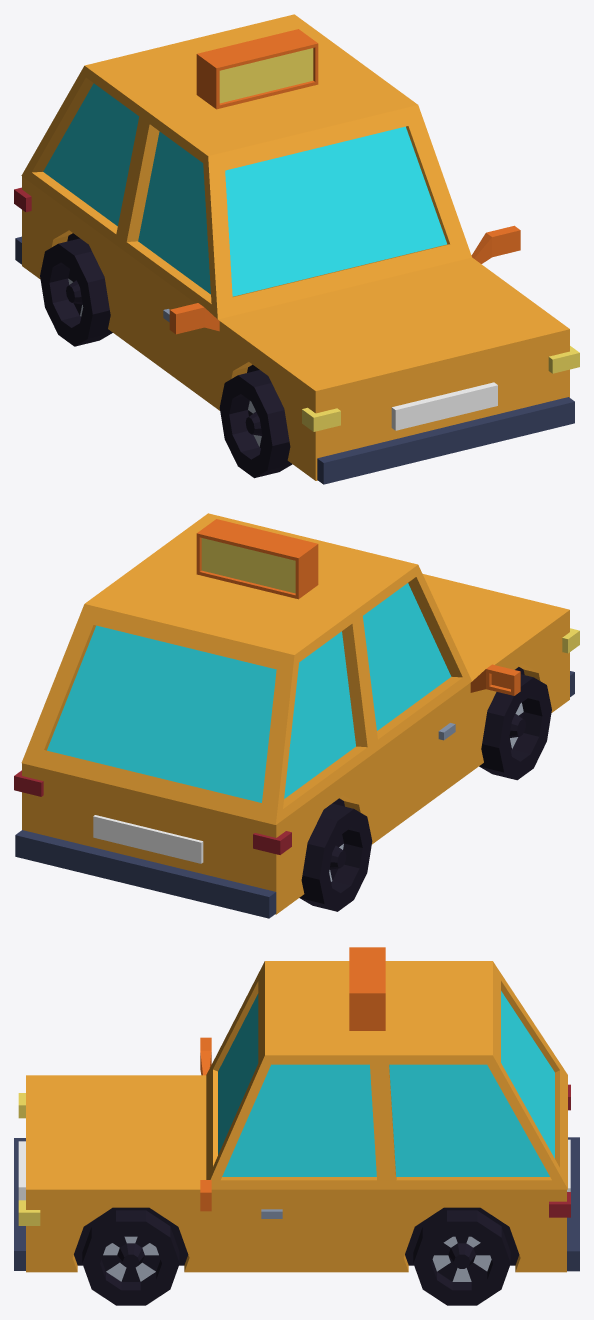
The model's file is car11.fbx.
3 renders of one model, top to bottom at view 1: azimuth 30°, elevation 25°; view 2: azimuth 150°, elevation 25°; view 3: azimuth 270°, elevation 25°, orthographic. The views are drawn at different scales.
Parts seen in each view (by area): view 1: car-yellow-taxi; view 2: car-yellow-taxi; view 3: car-yellow-taxi.
Part boxes in pixels (x1,y1,x2,y2): car-yellow-taxi: [14, 14, 579, 484]; car-yellow-taxi: [14, 513, 579, 918]; car-yellow-taxi: [14, 947, 579, 1305].
Bounding box in the file's own units: 2.71 × 2.22 × 4.18.
